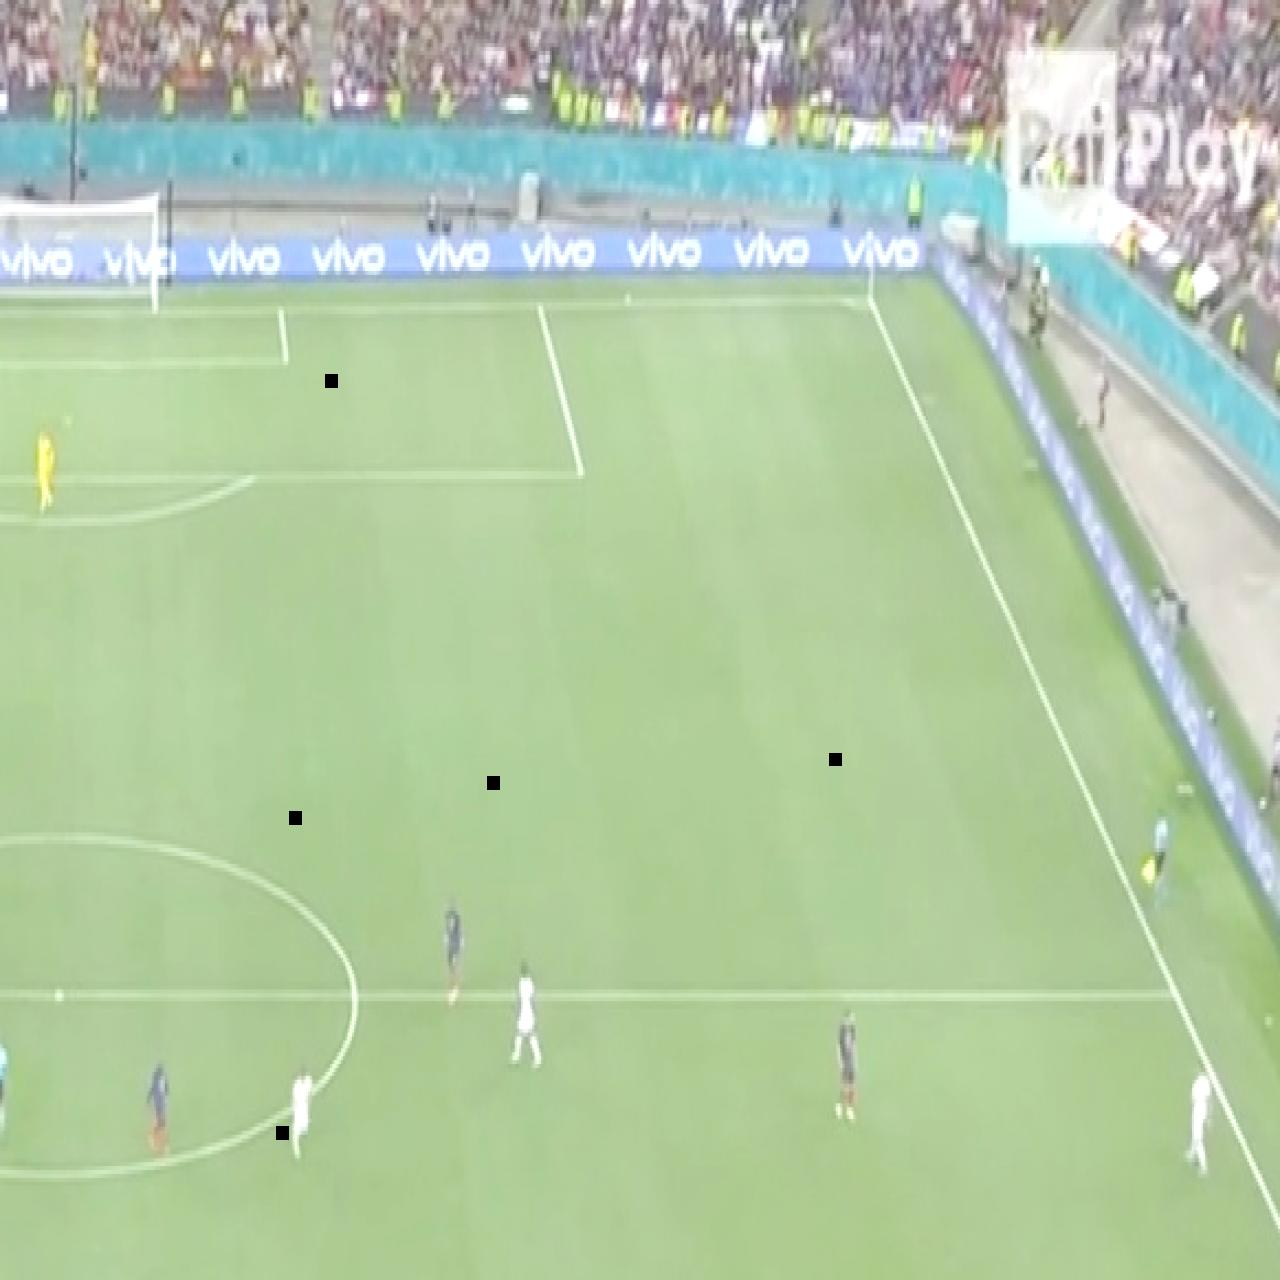football: (504, 957, 544, 1077), (138, 1048, 174, 1166), (1180, 1058, 1212, 1184), (442, 890, 468, 1028), (834, 1003, 862, 1129), (286, 1060, 316, 1169), (1148, 794, 1172, 920), (28, 419, 58, 516), (0, 1028, 15, 1154)
